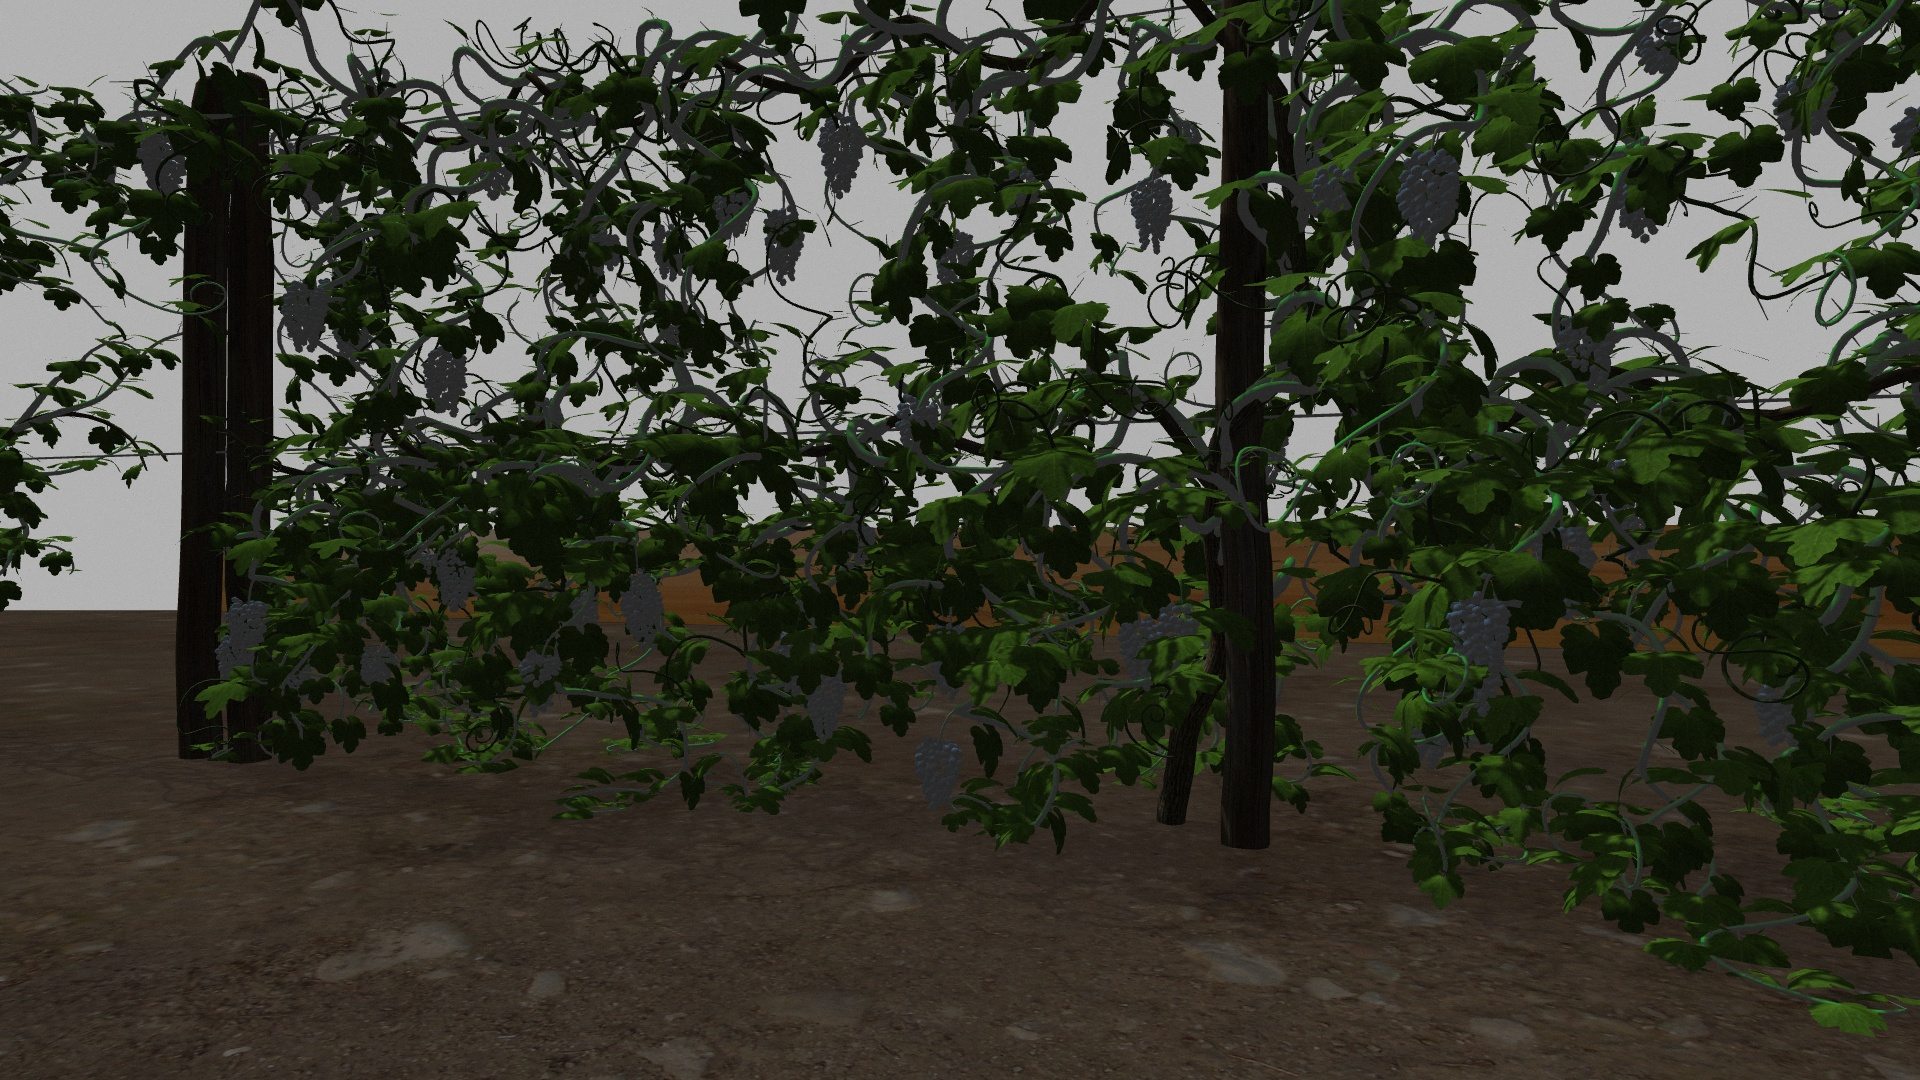grape: (1396, 145, 1464, 241), (1447, 593, 1511, 691), (818, 117, 864, 200), (914, 736, 963, 811), (618, 571, 666, 645), (280, 281, 328, 352), (1130, 175, 1174, 255), (136, 131, 187, 195), (422, 345, 469, 415), (762, 208, 804, 286), (806, 673, 848, 744), (1635, 21, 1687, 75), (1754, 682, 1796, 746), (225, 596, 268, 659), (434, 549, 475, 613), (894, 396, 938, 454), (934, 227, 976, 285), (1118, 621, 1155, 686), (1312, 164, 1356, 214), (713, 193, 756, 237), (1559, 316, 1592, 373), (1586, 330, 1619, 384), (520, 649, 562, 688), (1156, 604, 1200, 641), (359, 644, 396, 684), (218, 644, 255, 680)
